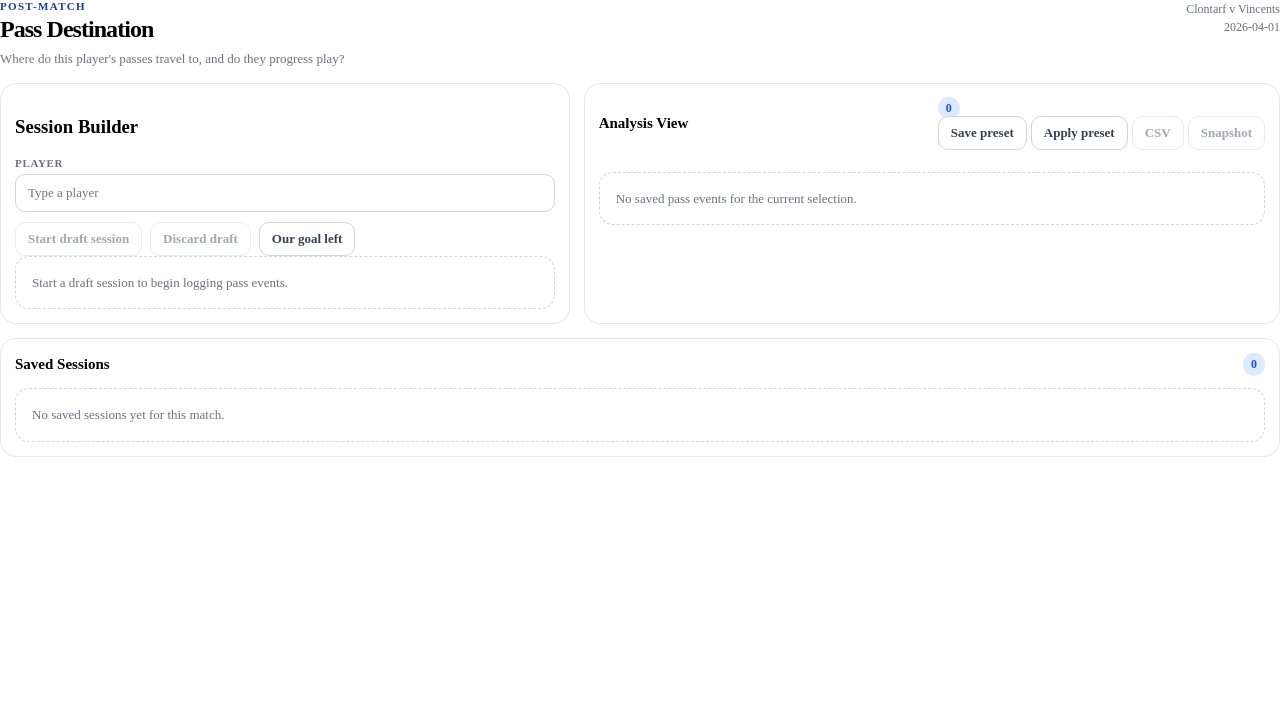
Test: PassImpactPanel › shows draft passes immediately before finalizing the session
Type "#8" into the field with placeholder "Type a player" at x=285, y=193, box [15,174,555,212]
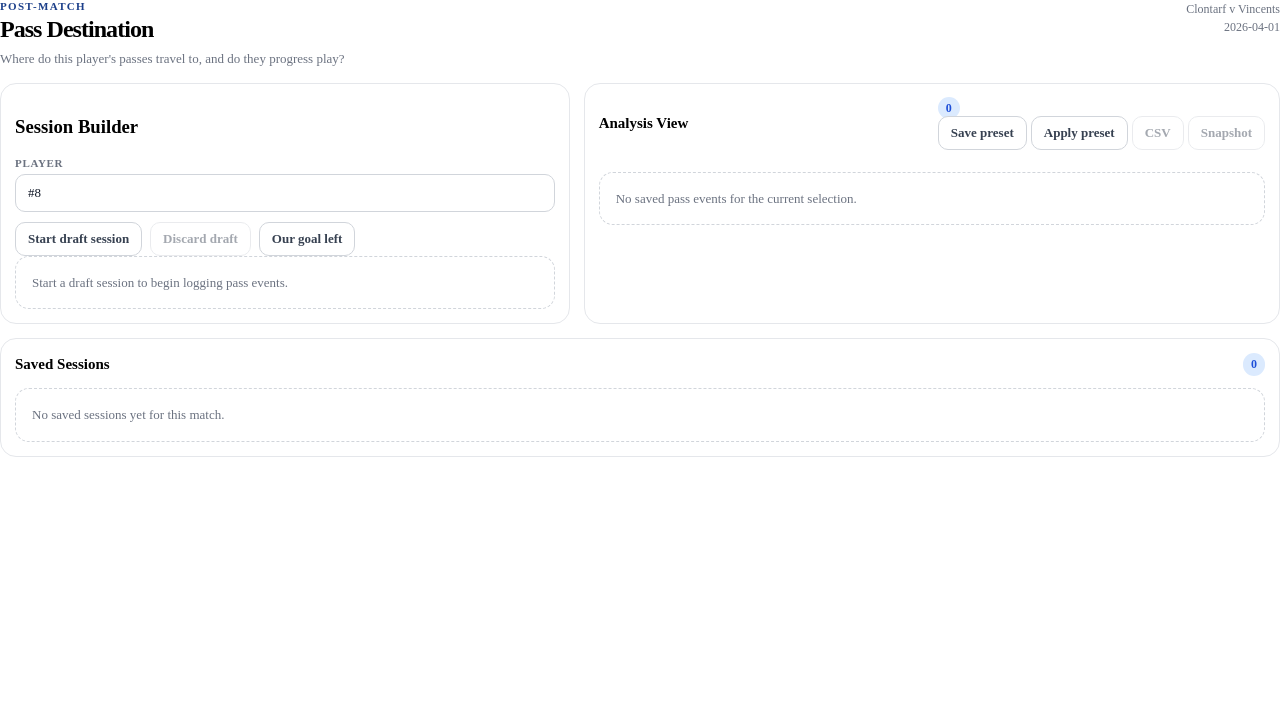
Click the button "Start draft session" at x=79, y=239, box [15,222,142,256]
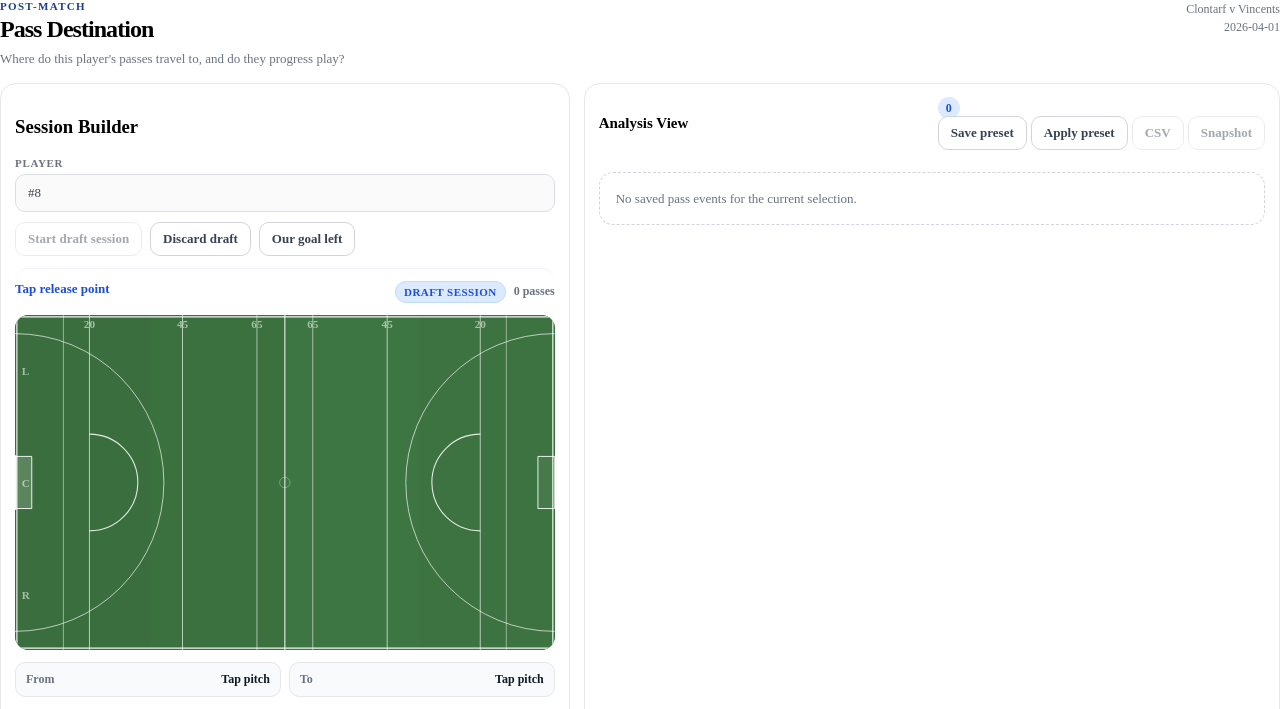
Press Enter in the icon named "GAA pitch", box [15,315,555,650]
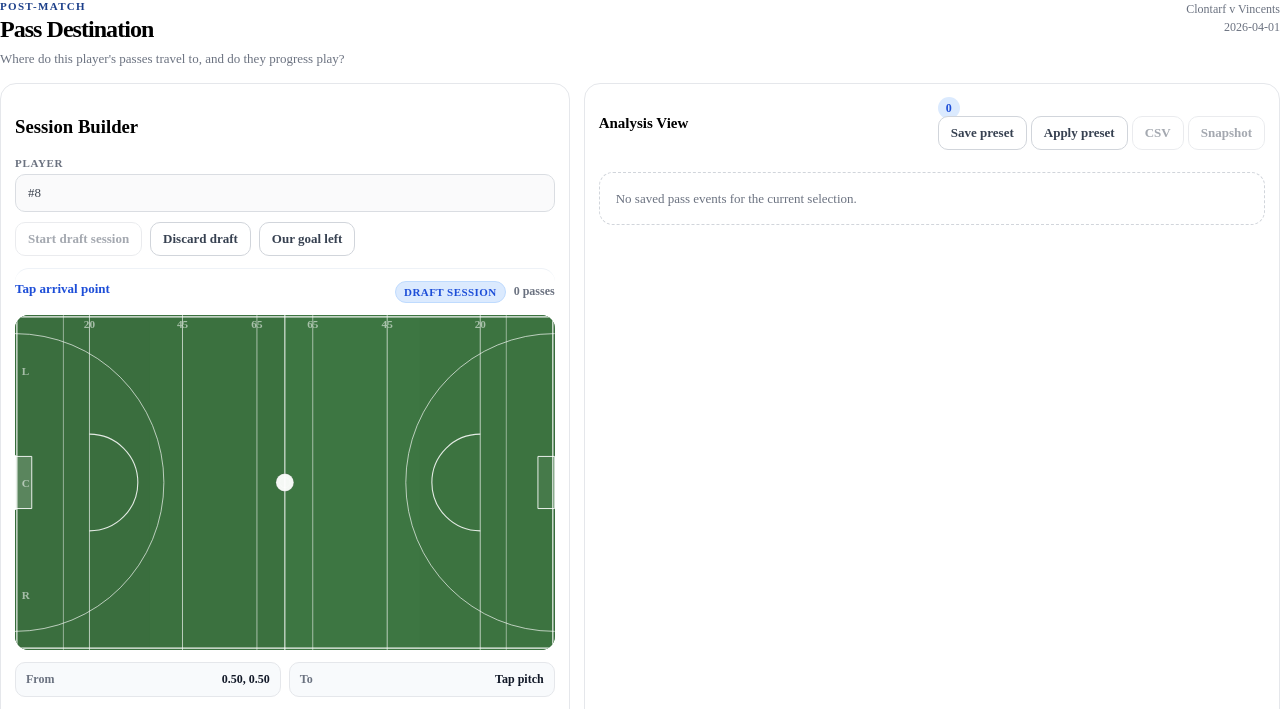
Press Enter in the icon named "GAA pitch", box [15,315,555,650]
(page scrolled)
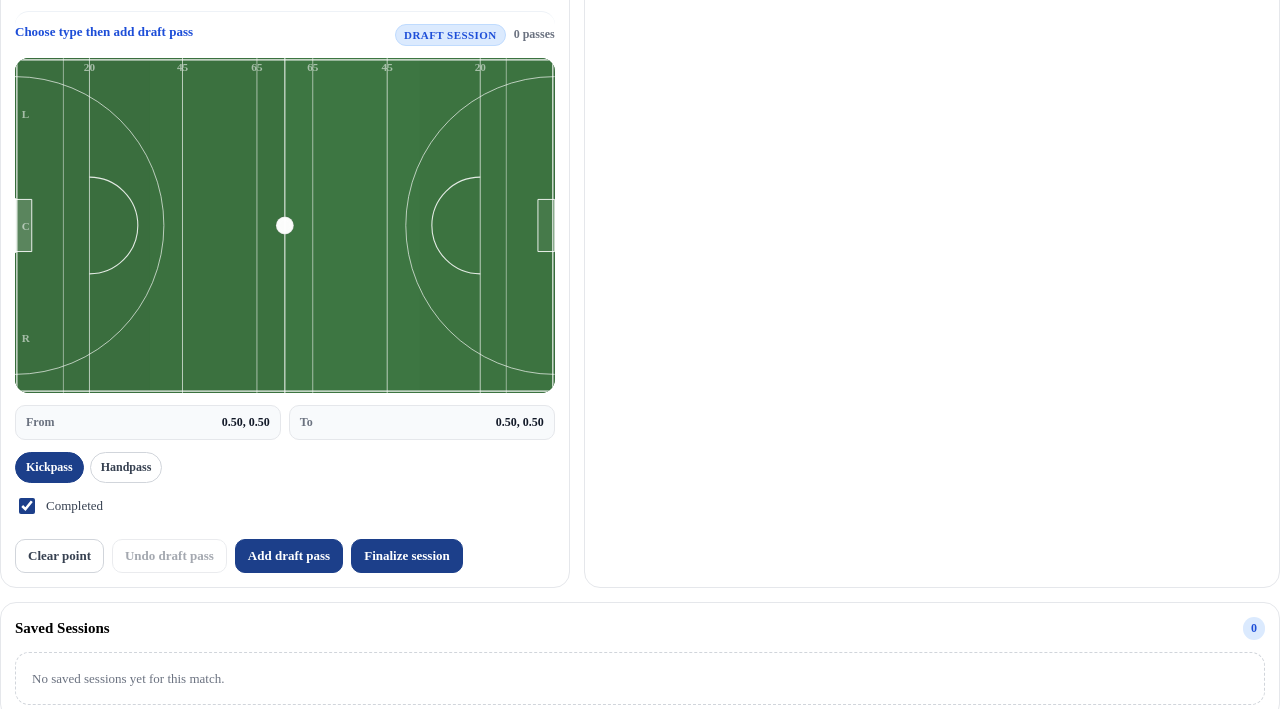
Click the button "Add draft pass" at x=289, y=556, box [235,539,343,573]
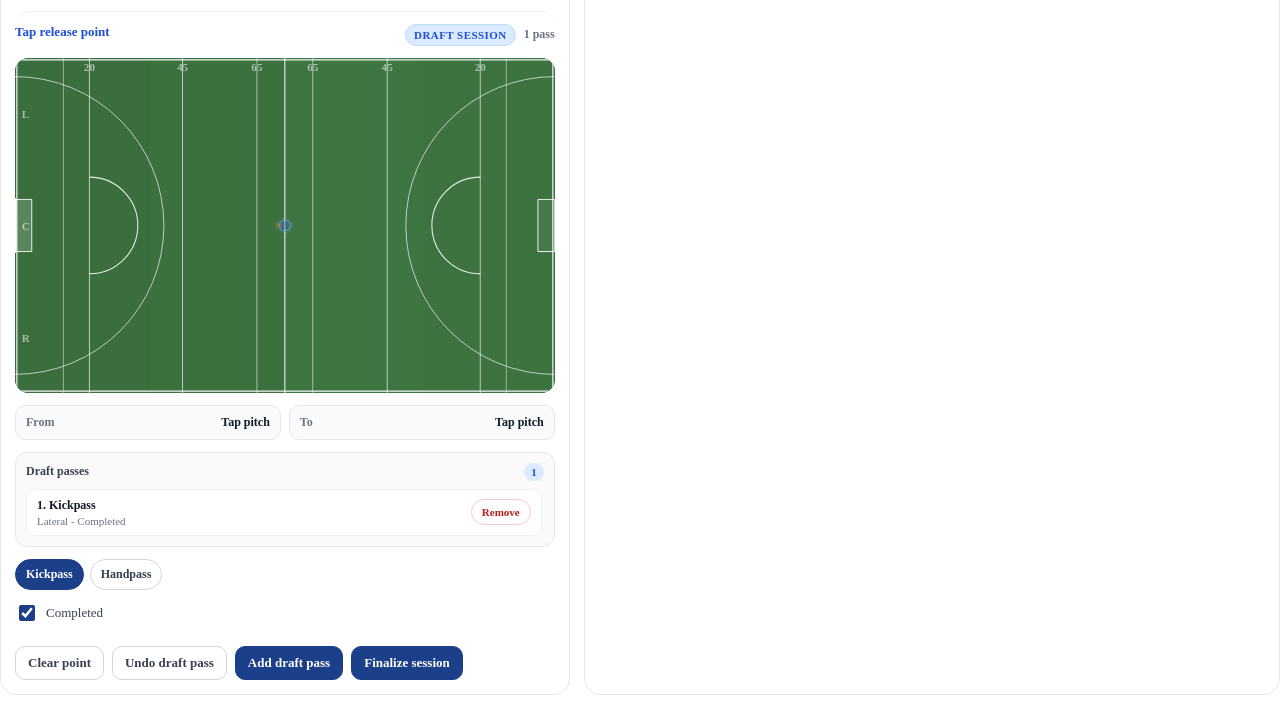
Now the text "Draft passes" is shown, box [26,464,89,479]
Now the text "1. Kickpass" is shown, box [37,498,96,512]
Click the button "Finalize session" at x=407, y=663, box [351,646,463,680]
(page scrolled)
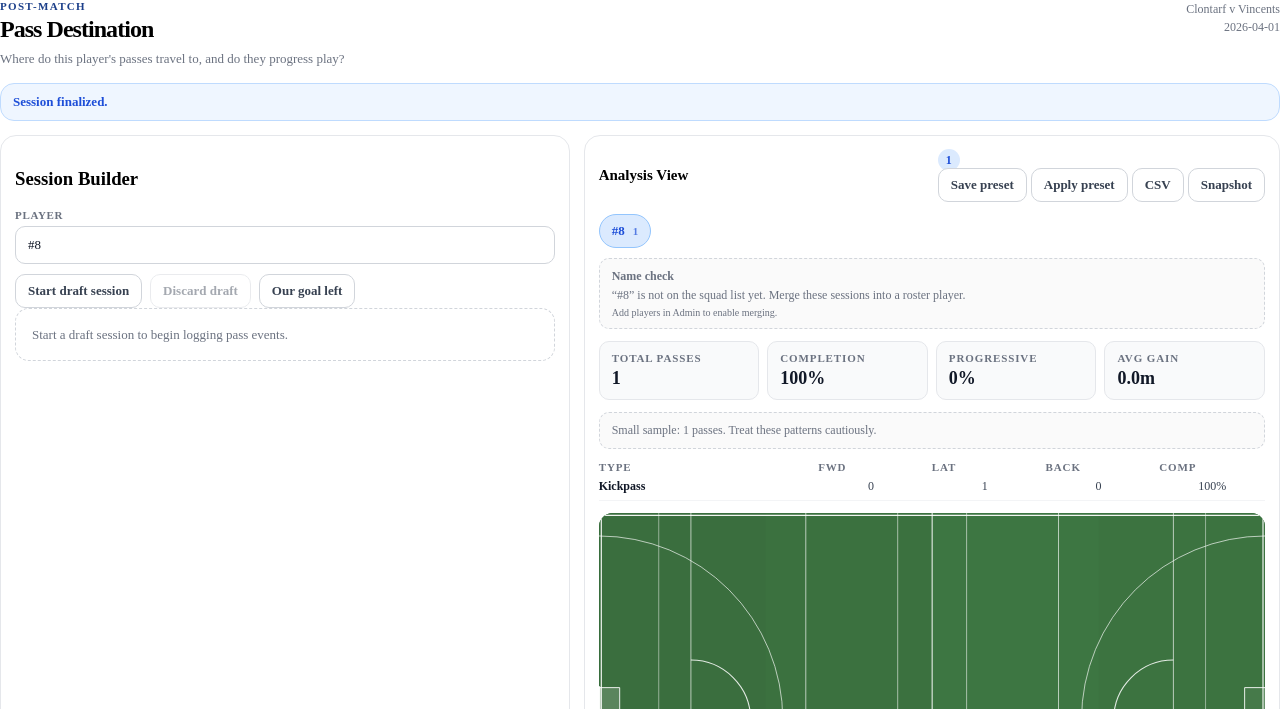
Now the text "Session finalized." is shown, box [0,82,1279,120]
